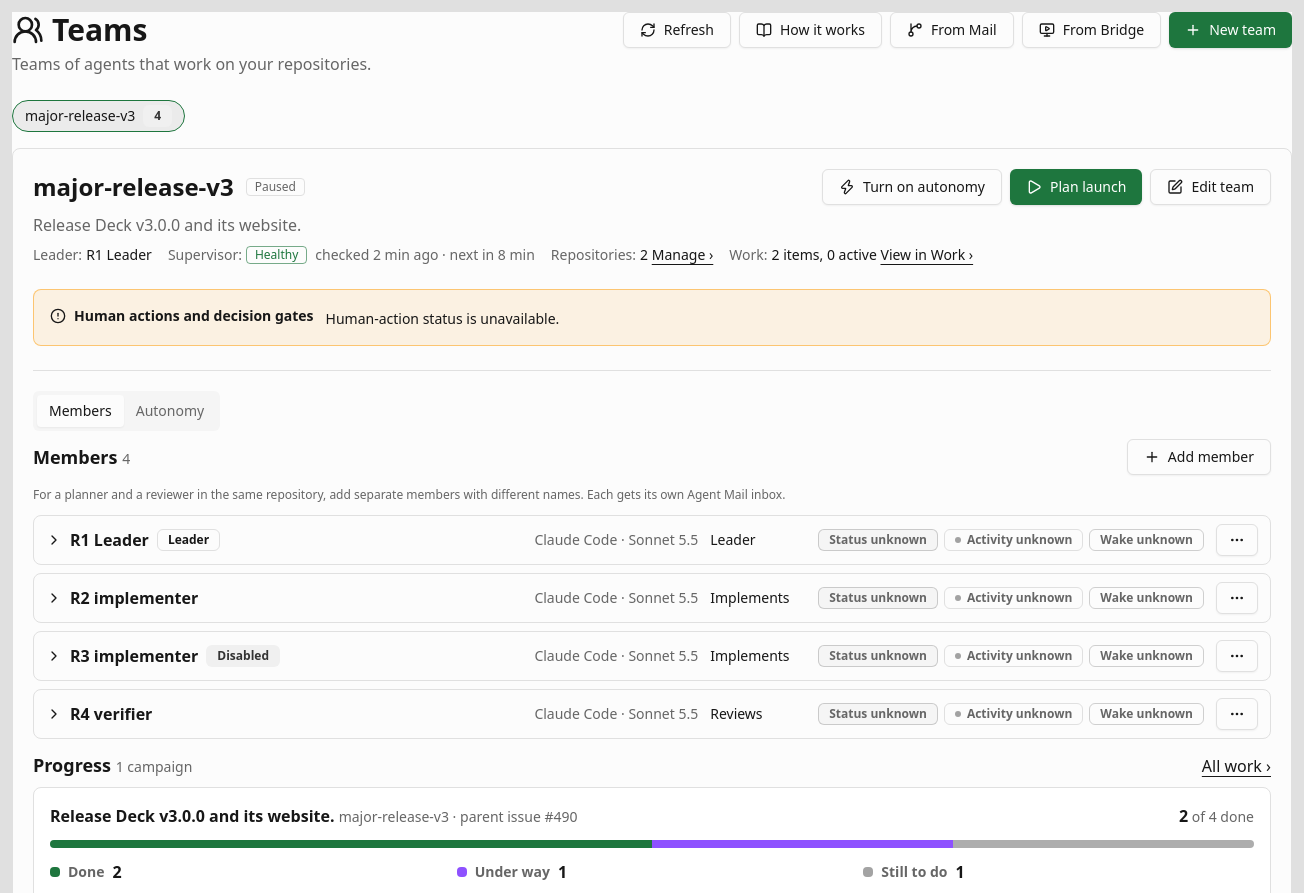
Test: Edit team › shows no editable team field until Edit team is selected
Expected: the header named "Team:" is shown, [33,169,1271,265]
Expected: the field labelled "Name" is not shown
Click the button "Edit team" at (1211, 187), box [1150,169,1271,205]
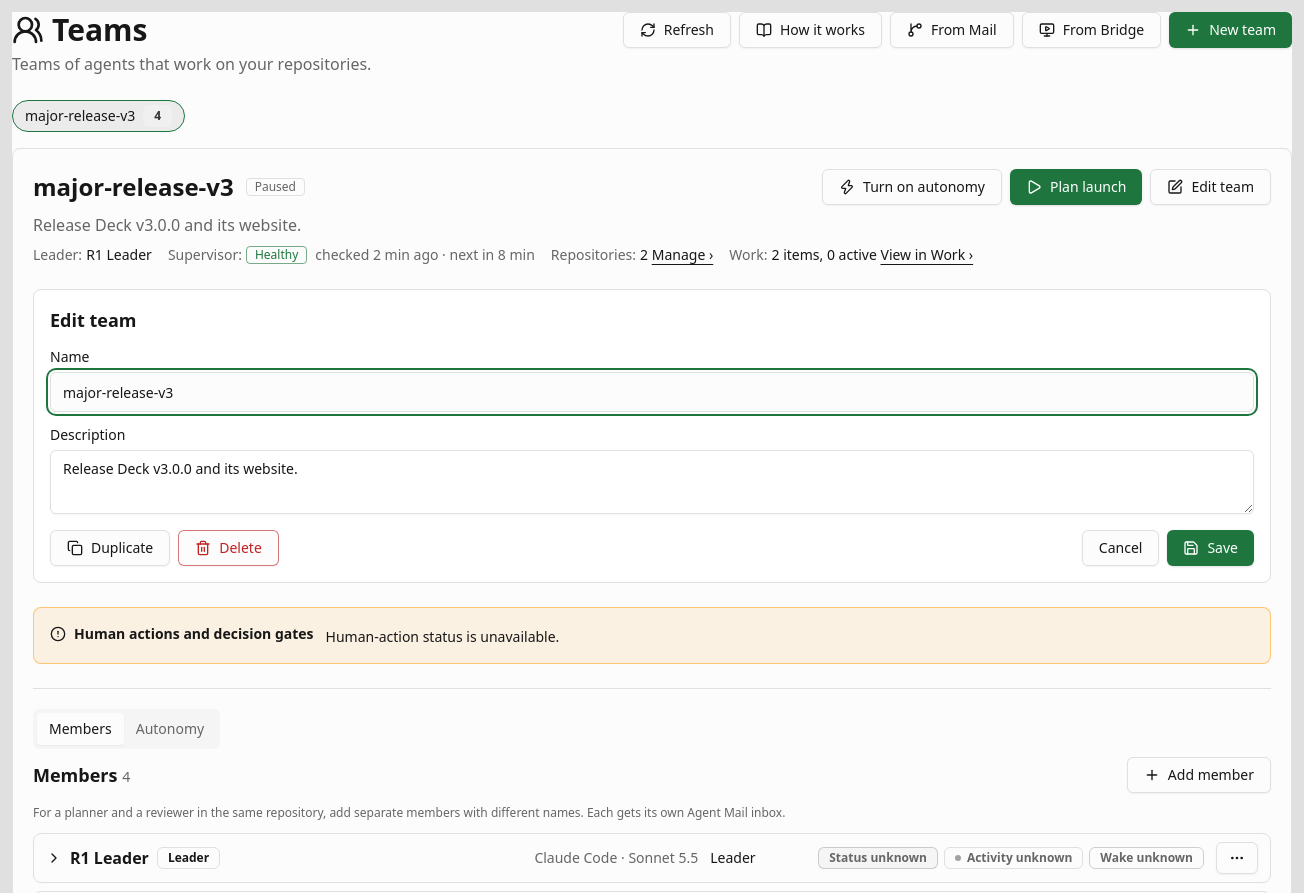
Expected: the field labelled "Name" holds "major-release-v3", [50,372,1254,412]
Expected: the text box labelled "Description" holds "Release Deck v3.0.0 and its website.", [50,450,1254,514]
Expected: the button "Save" is shown, [1167,530,1254,566]
